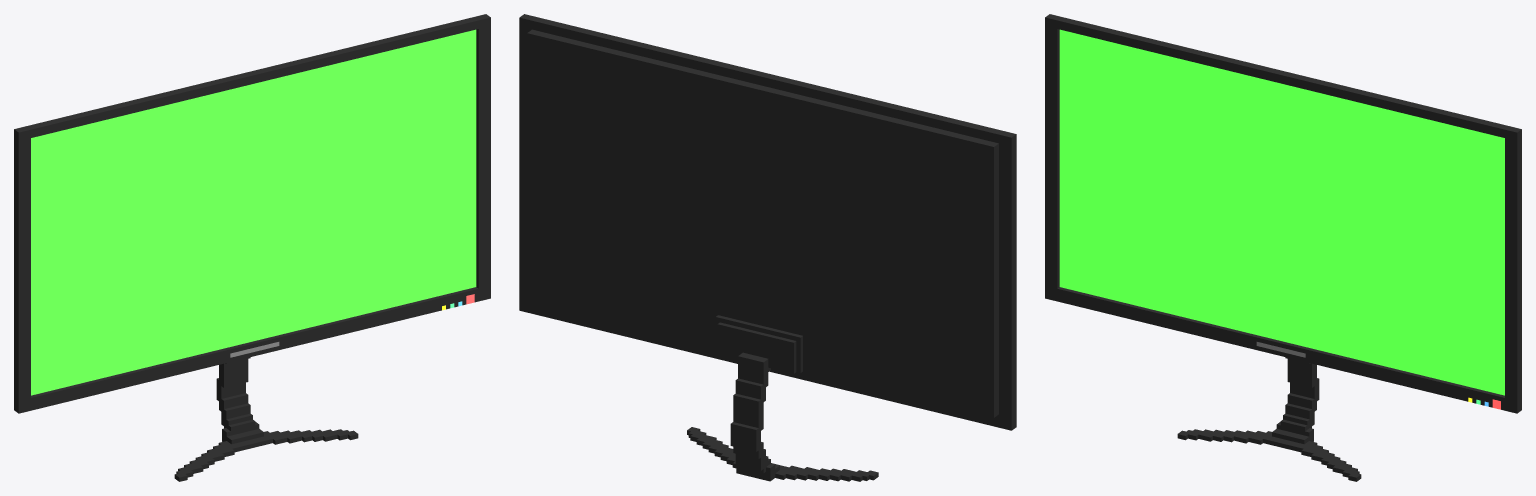
Rendered from screen_0_lev1_lev3.glb.
3 renders of one model, left to right at view 1: azimuth 30°, elevation 25°; view 2: azimuth 150°, elevation 25°; view 3: azimuth 330°, elevation 25°, orthographic. The views are drawn at different scales.
Parts seen in each view (by area): view 1: screen_0_lev1_lev3; view 2: screen_0_lev1_lev3; view 3: screen_0_lev1_lev3.
Part boxes in pixels (x1,y1,x2,y2): screen_0_lev1_lev3: [14, 14, 490, 481]; screen_0_lev1_lev3: [519, 14, 1016, 481]; screen_0_lev1_lev3: [1045, 14, 1521, 481].
Size of the model in its own units: 2.17 by 1.64 by 0.3176.
1 material, 1 textured.
